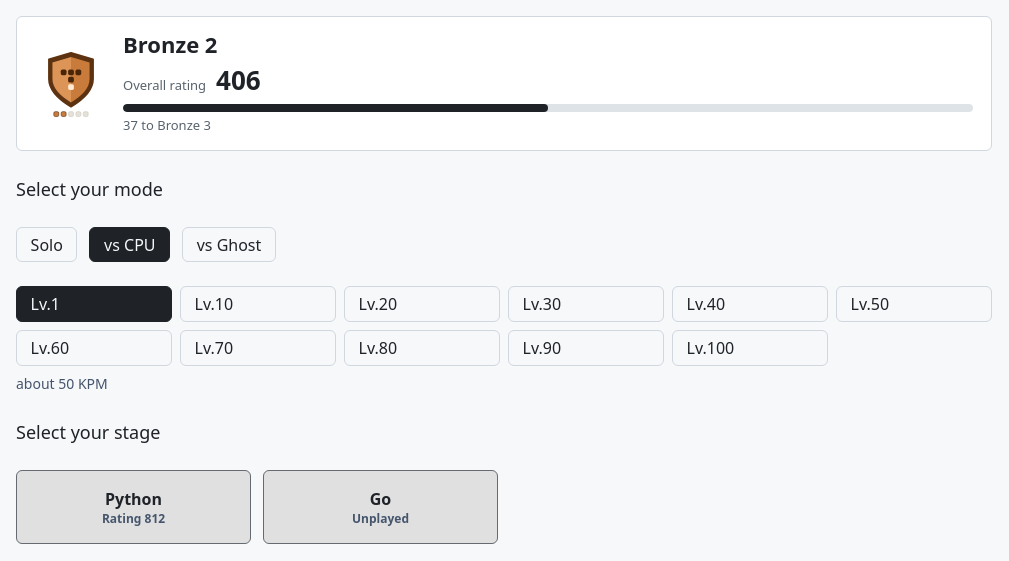
Test: vs Ghost › treats a record of zero like no record
The image size is (1009, 561).
Step 1. Click the button "vs Ghost" → click(229, 245), box [182, 227, 276, 262]
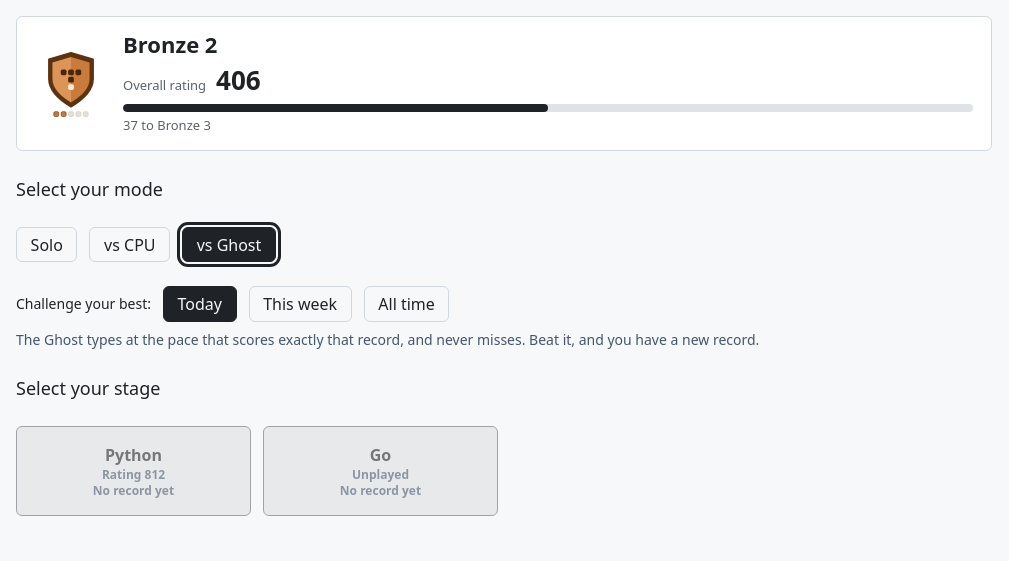
Expected: the button "Python Rating 812 No record yet" is disabled, [16, 426, 251, 516]
